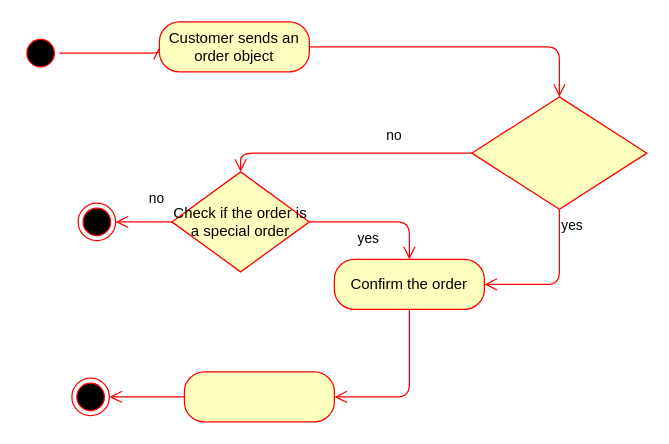
Image size: 669x444. Some labels were removed from this diagram. Here are the shapes that lost their labels. From the top down, the centre of each, then its label:
the point at 559,152: Check if the order is normal order
the point at 258,396: Dispatch the order
